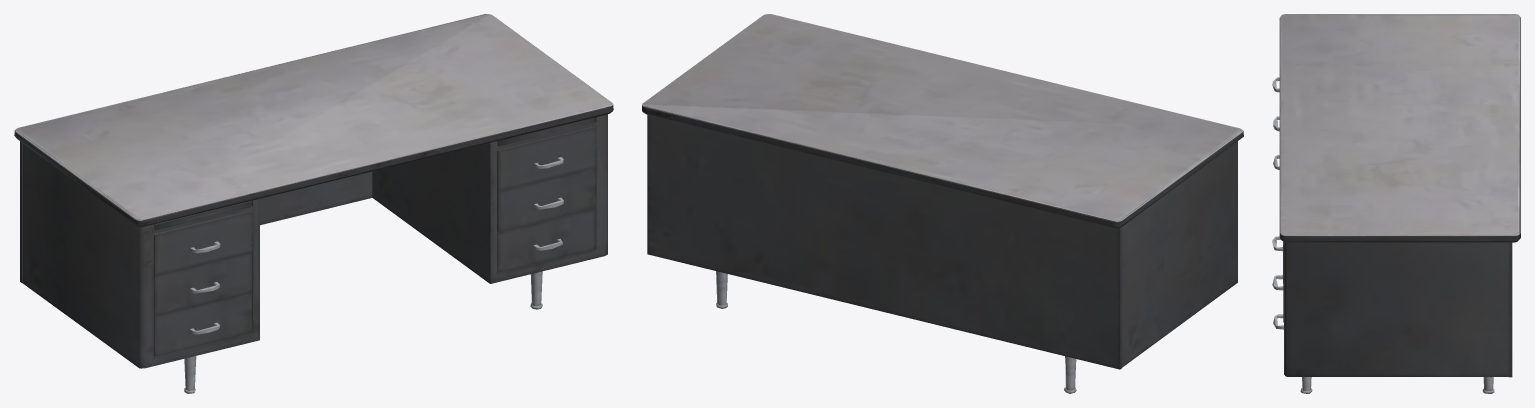
Rendered from metal_office_desk.glb.
3 renders of one model, left to right at view 1: azimuth 30°, elevation 25°; view 2: azimuth 150°, elevation 25°; view 3: azimuth 270°, elevation 25°, orthographic. The views are drawn at different scales.
Parts seen in each view (by area): view 1: metal_office_desk_drawer_06; view 2: metal_office_desk_drawer_06; view 3: metal_office_desk_drawer_06.
Part boxes in pixels (box(x1,y1,x2,y2)): metal_office_desk_drawer_06: box(14, 14, 613, 393); metal_office_desk_drawer_06: box(642, 14, 1243, 393); metal_office_desk_drawer_06: box(1272, 14, 1520, 393).
Size of the model in its own units: 2 by 0.7867 by 0.9464.
Materials: 1 (1 with a texture image).
